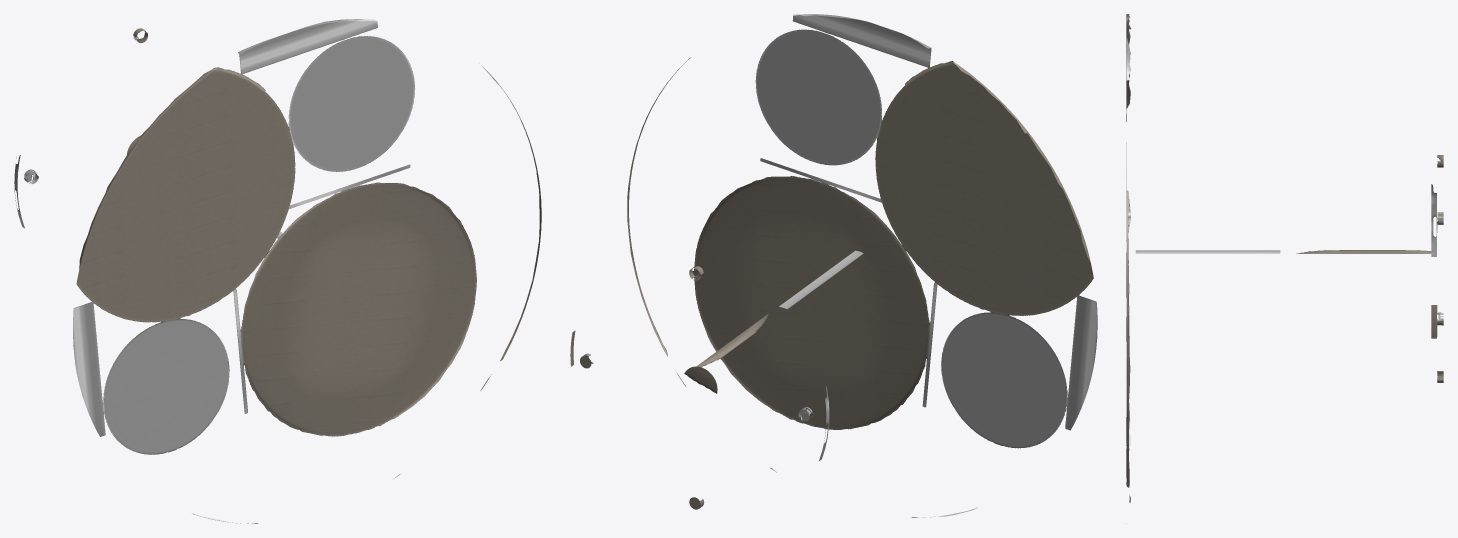
3 views of the same model, side by side, from view 1: azimuth 30°, elevation 25°; view 2: azimuth 150°, elevation 25°; view 3: azimuth 270°, elevation 25° (orthographic). The views are drawn at different scales.
Size of the model in its own units: 0.65 by 0.65 by 0.4044.
